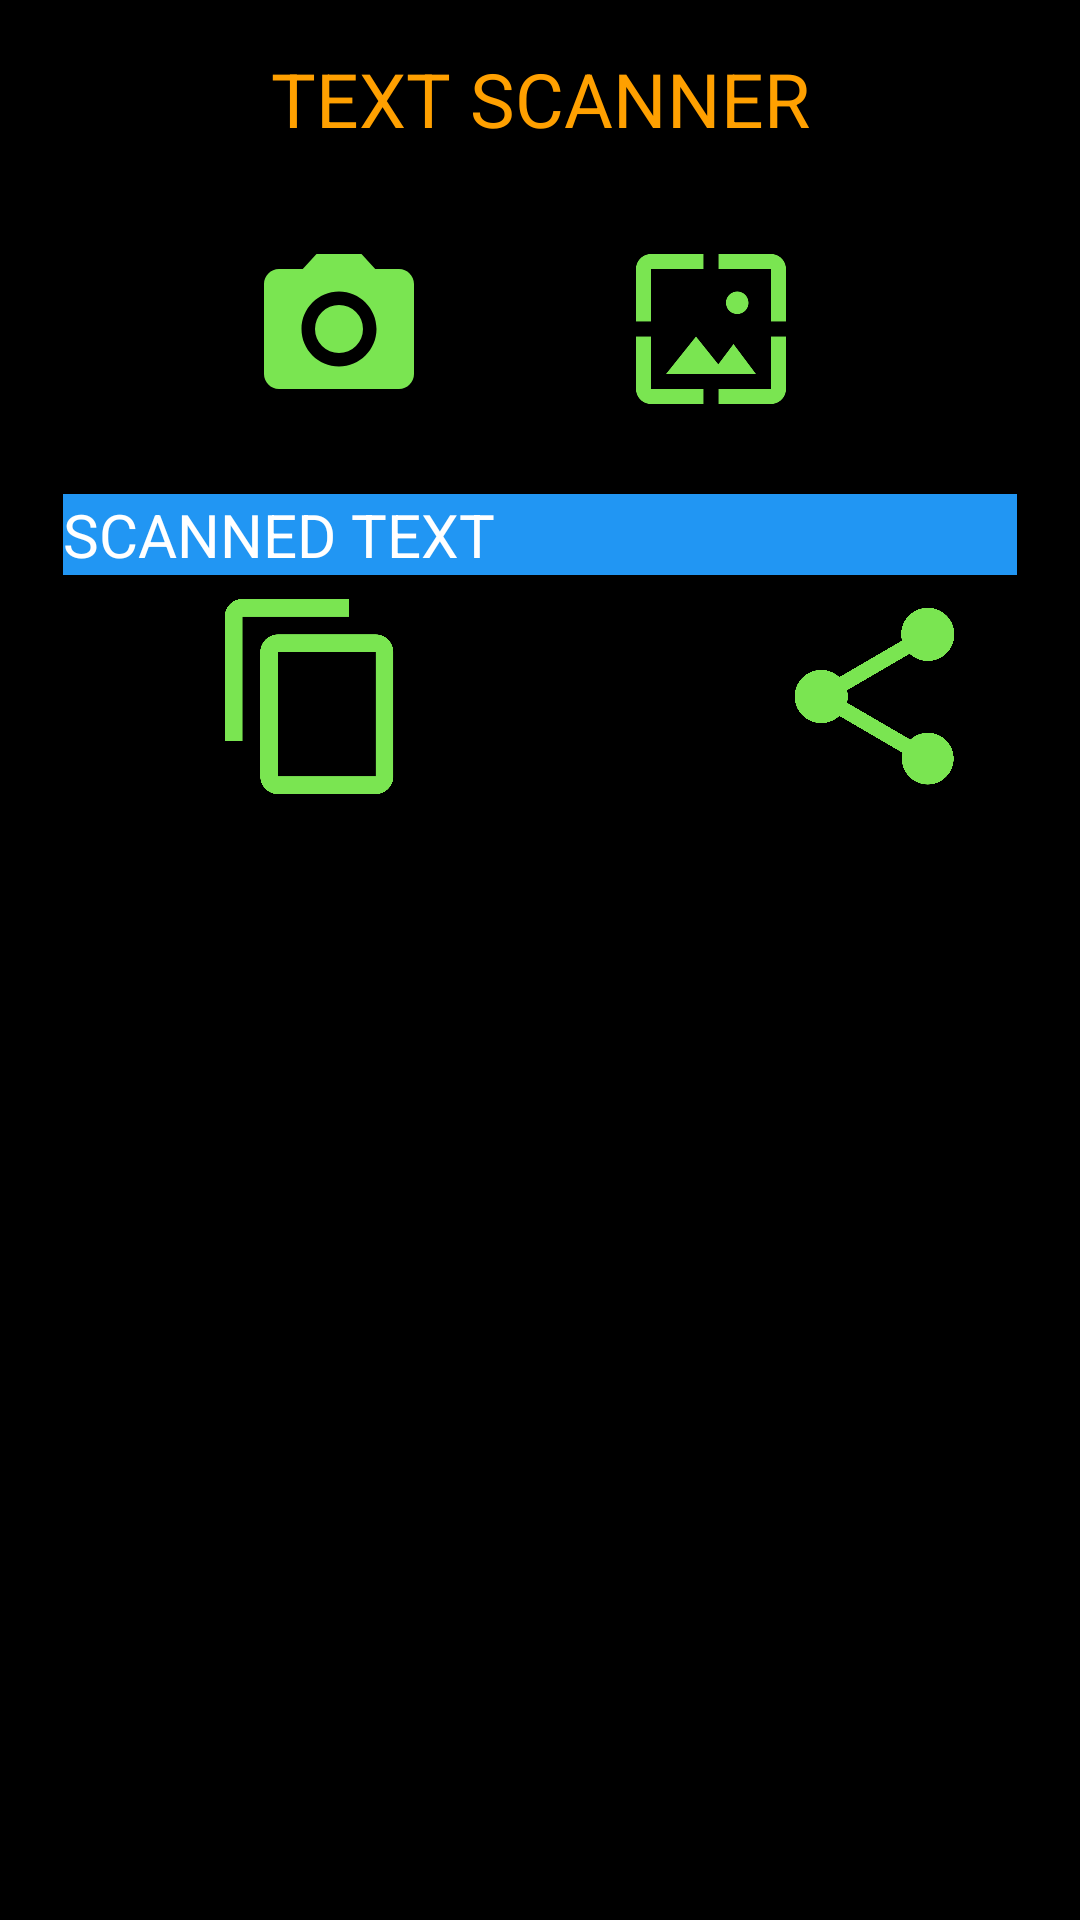

Where icons sit on this 1080px x 1920px app screen, as bbox=[x1, y1, x2, y2]:
camera: bbox=[264, 254, 414, 389]
gallery: bbox=[636, 254, 786, 404]
